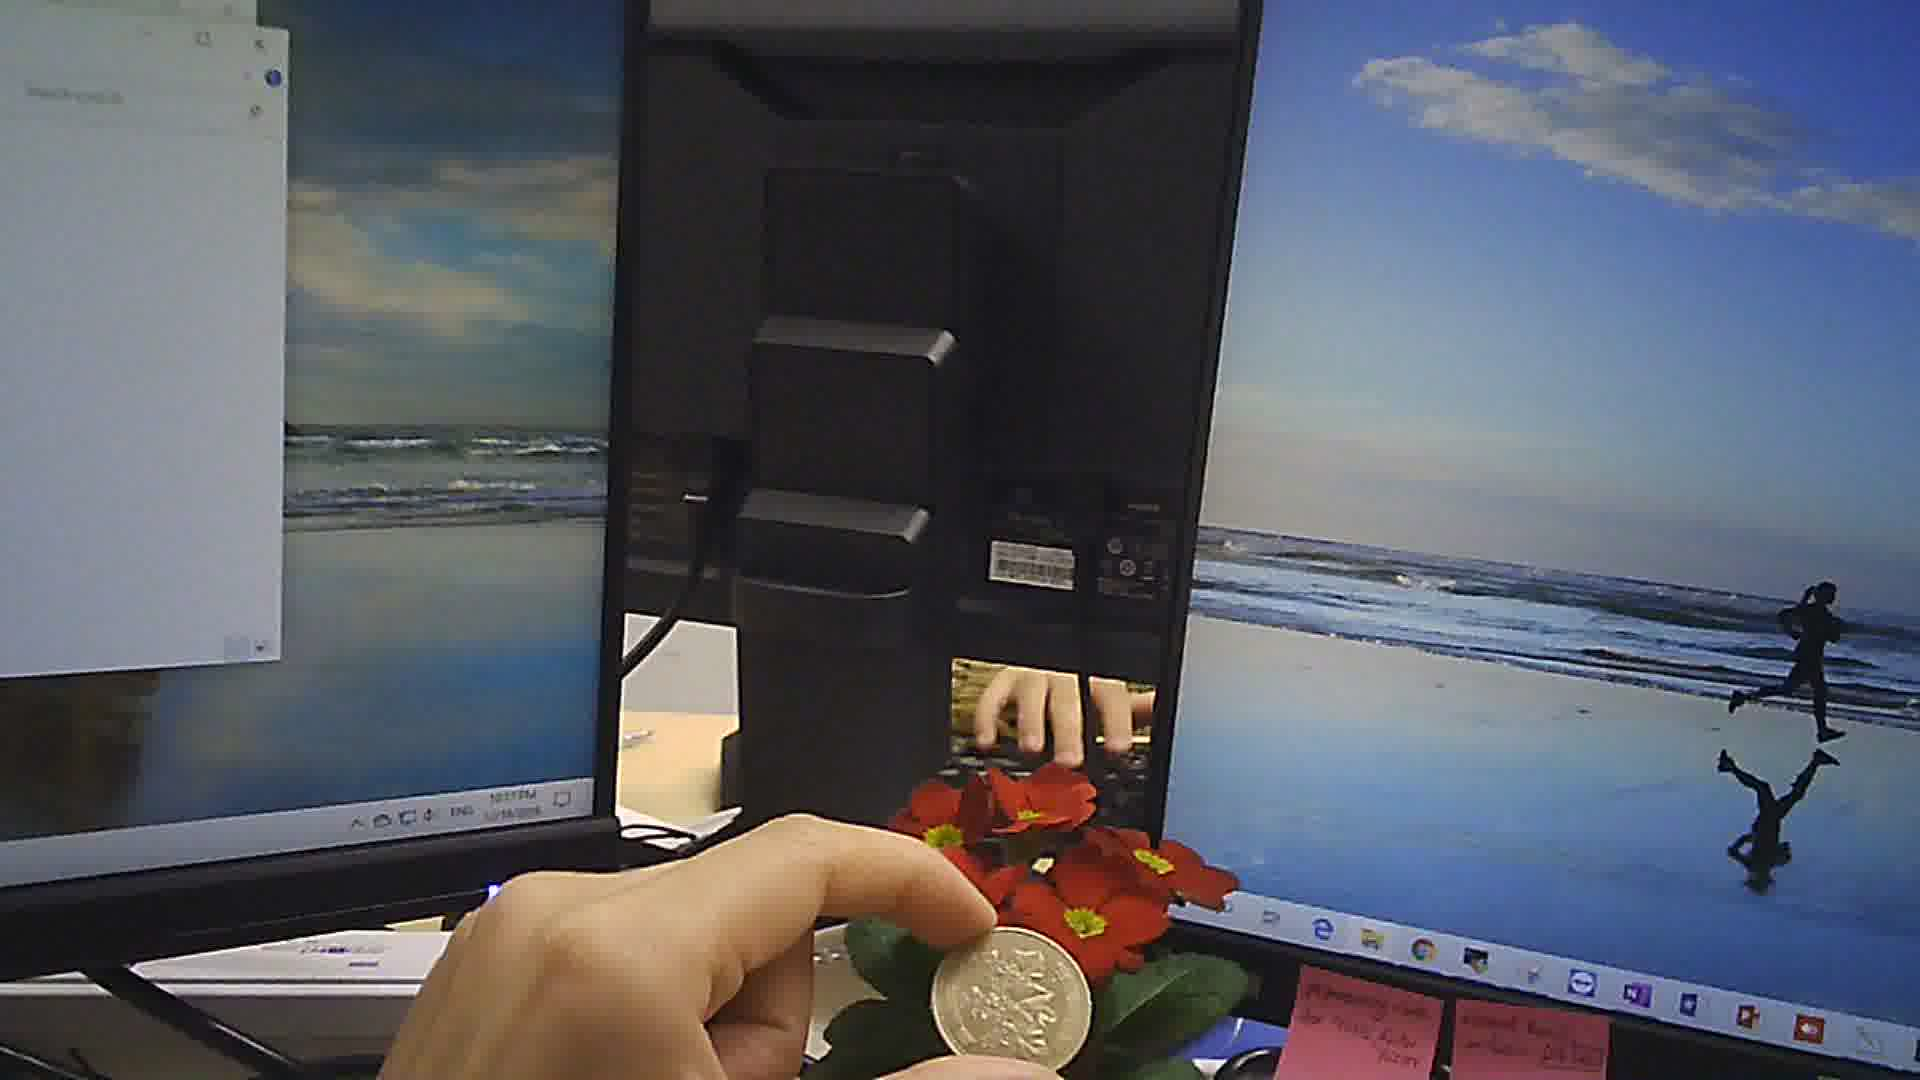500 Yen: (920, 924, 1098, 1079)
